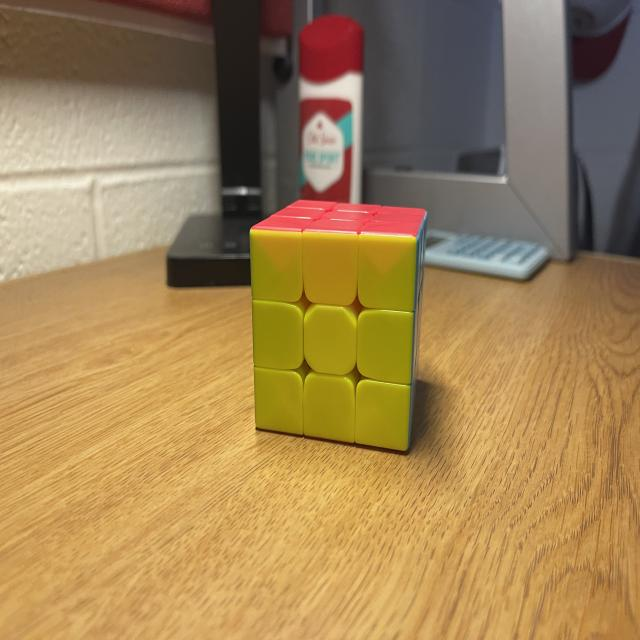Rubiks Cube: (250, 197, 426, 451)
